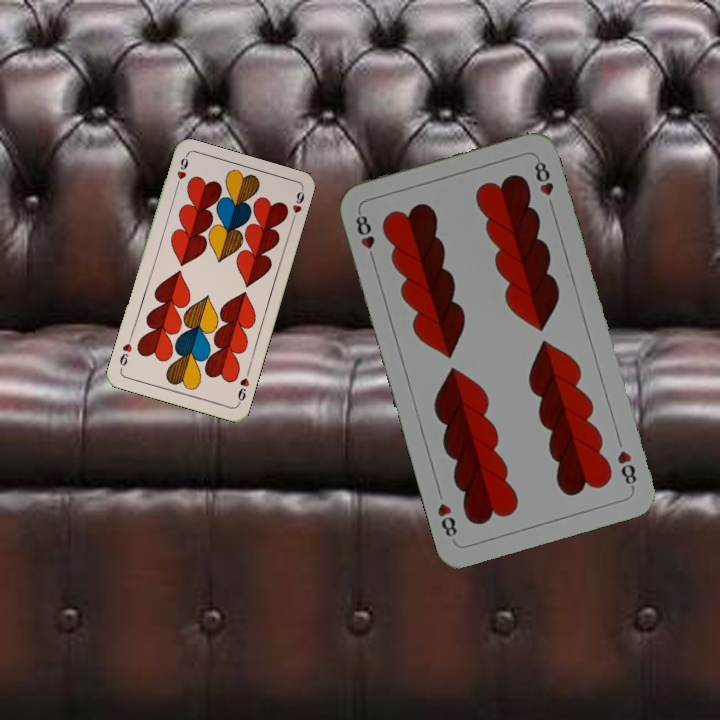H8: (351, 207, 378, 265), (613, 446, 639, 492)
H9: (172, 152, 191, 192), (234, 367, 252, 407)
